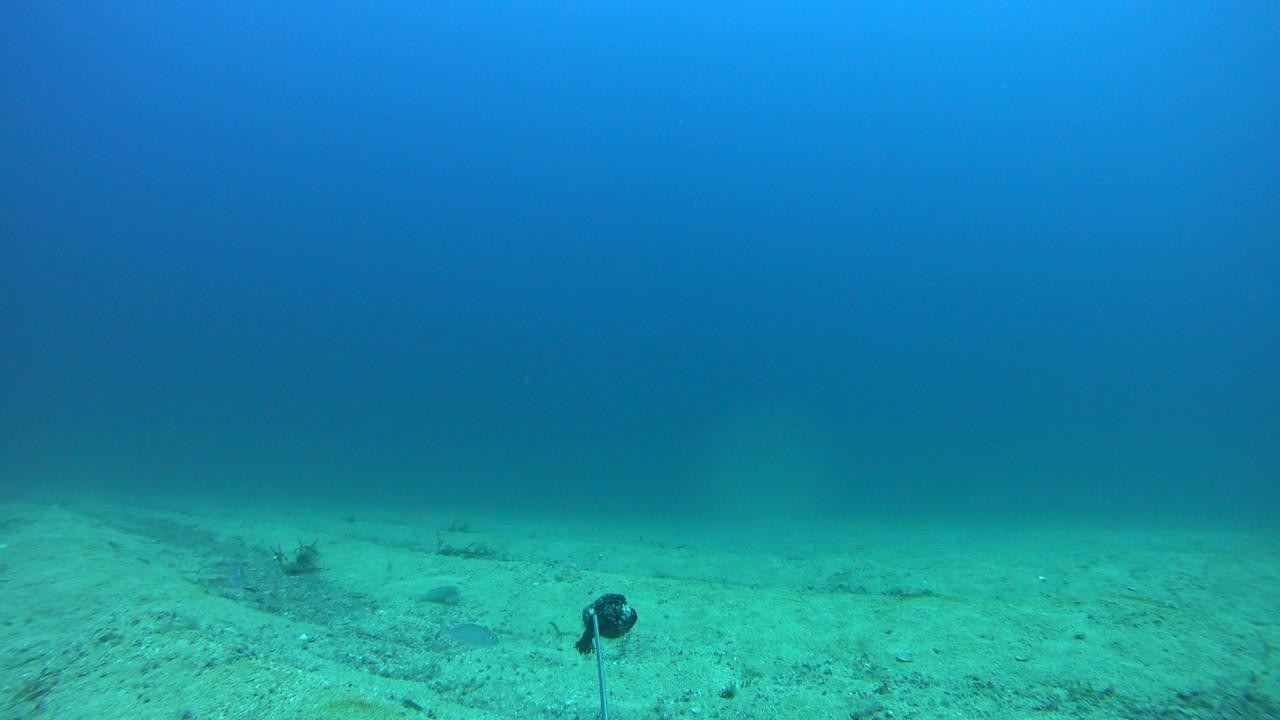pagellus: (433, 619, 498, 647)
raor: (409, 584, 467, 609)
